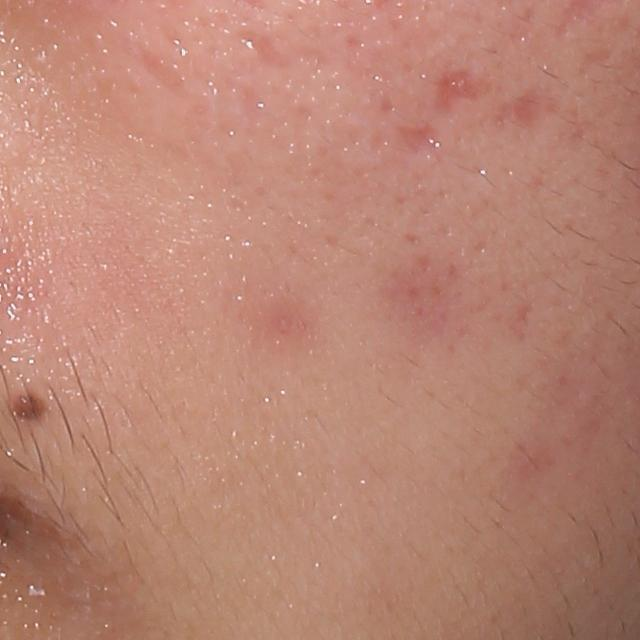atrophic_scar: (442, 63, 504, 128), (131, 44, 193, 96), (493, 86, 558, 134), (237, 29, 298, 68), (392, 121, 444, 162)
nevus: (3, 389, 52, 427)
